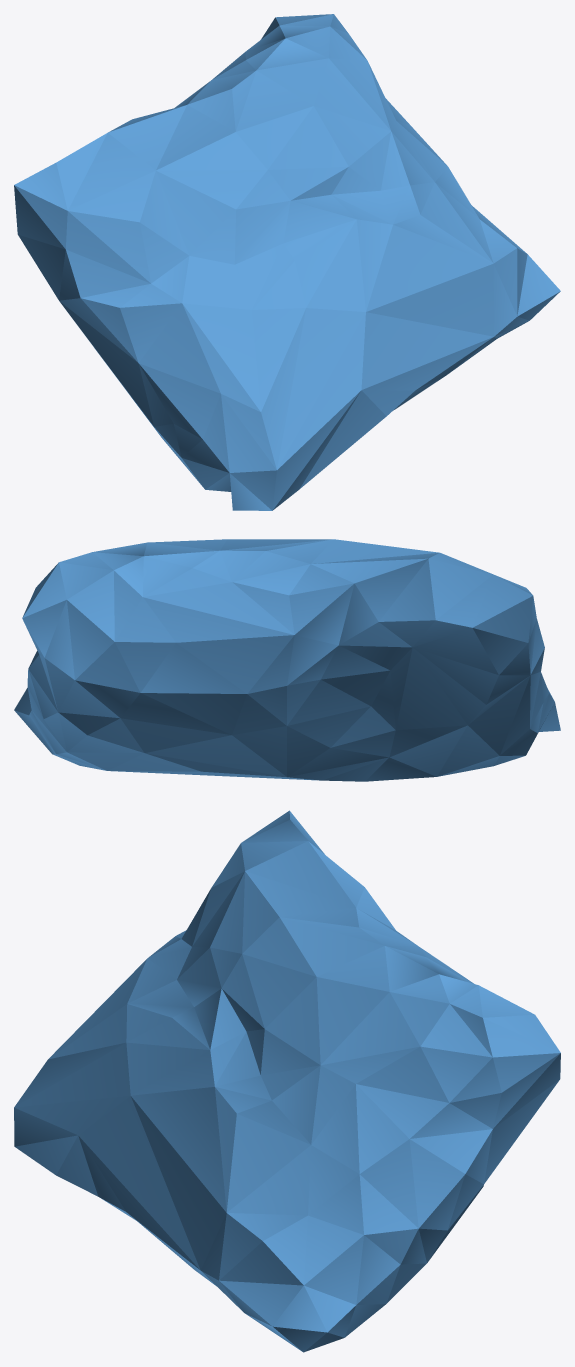
Rendered from sofa_pillow5.fbx.
The picture shows the model from 3 angles, top to bottom: view 1: azimuth 30°, elevation 25°; view 2: azimuth 150°, elevation 25°; view 3: azimuth 270°, elevation 25°; orthographic projection. The views are drawn at different scales.
Visible parts, largest first — view 1: sofa_pillow5; view 2: sofa_pillow5; view 3: sofa_pillow5.
Boxes of the visible parts, <box> form: sofa_pillow5: <box>14,14,560,510</box>; sofa_pillow5: <box>14,539,560,781</box>; sofa_pillow5: <box>14,810,560,1352</box>.
Bounding box in the file's own units: 312 × 160 × 263.
